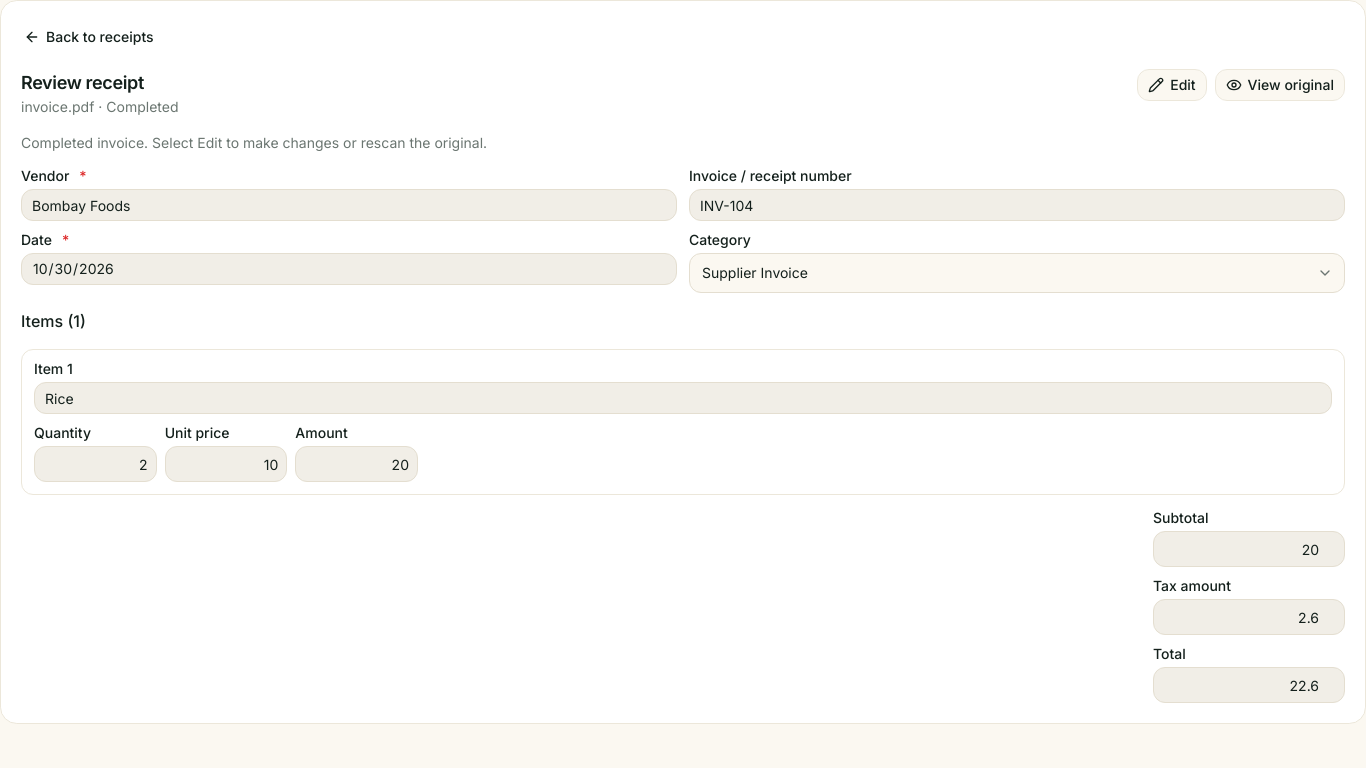
it: can cancel an unchanged edit and lock the completed invoice again
Click the button "Edit" at {"x": 1172, "y": 85}, box [1137,69,1207,101]
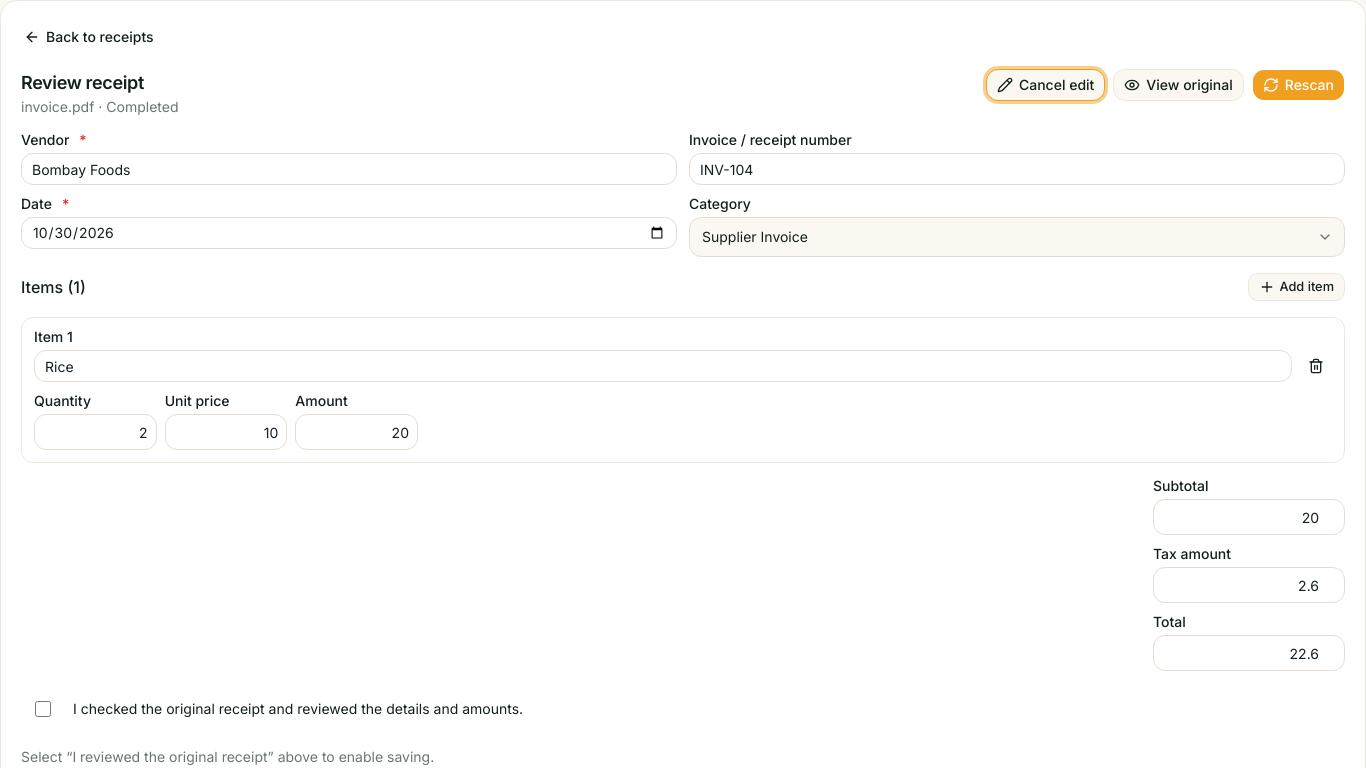
Click the button "Cancel edit" at {"x": 1046, "y": 85}, box [986,69,1105,101]
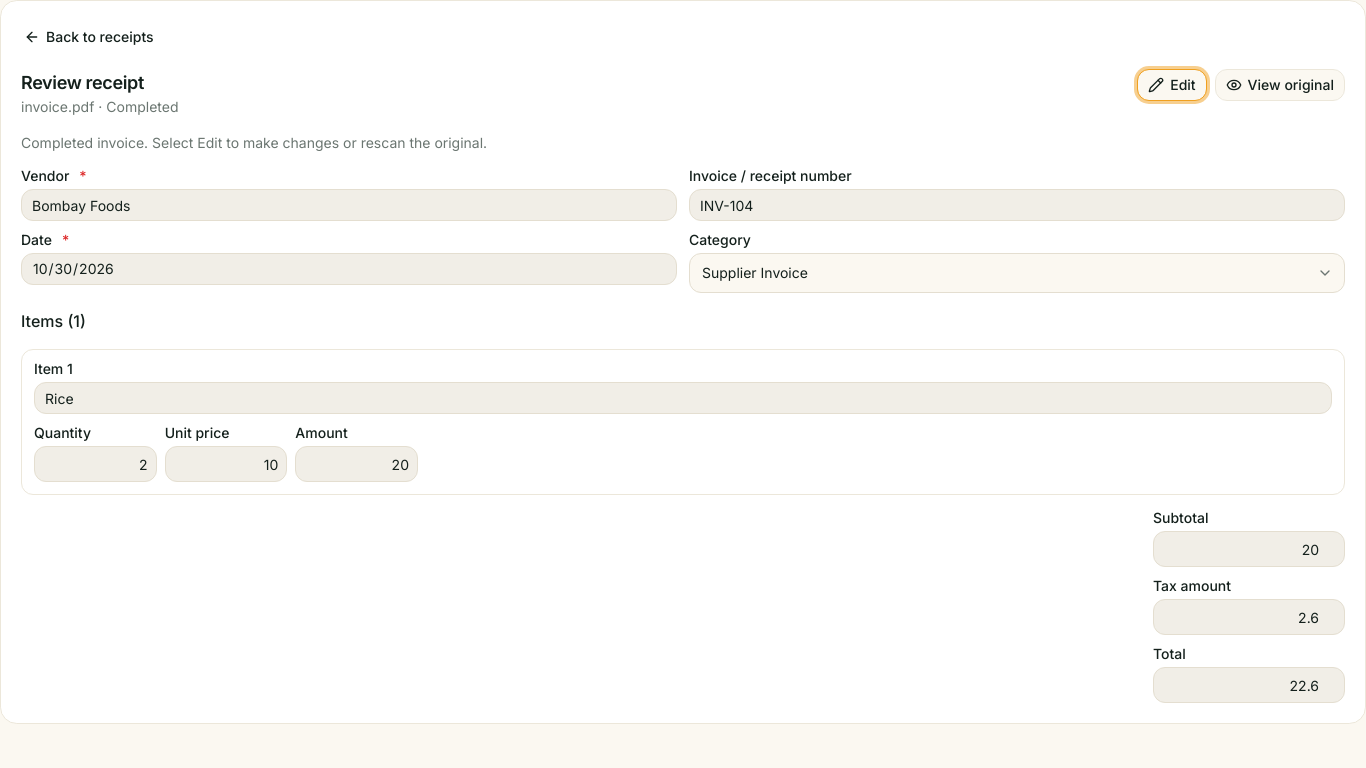
Expected: the field labelled "Vendor *" is disabled, [21,189,677,221]
Expected: the checkbox is gone
